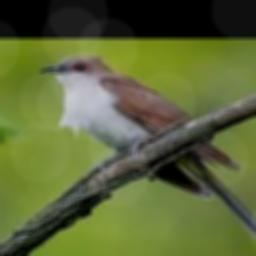Cuckoo: (40, 55, 256, 256)
